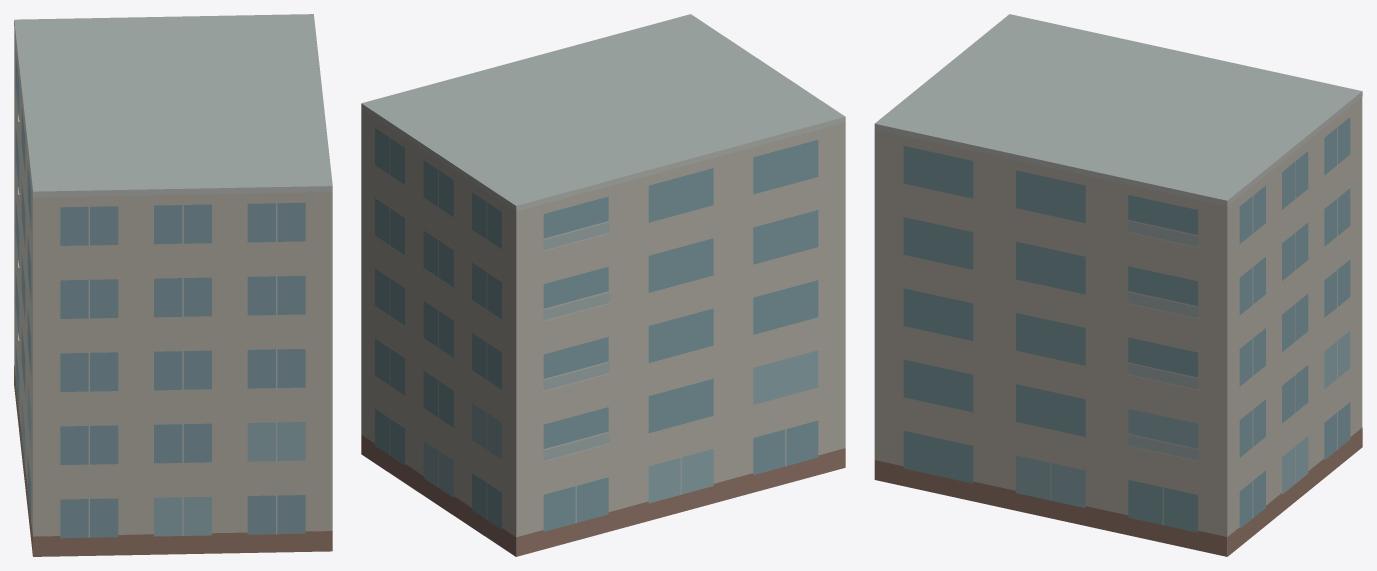
File: survey-upis-32554875.glb
3 renders of one model, left to right at view 1: azimuth 30°, elevation 25°; view 2: azimuth 150°, elevation 25°; view 3: azimuth 270°, elevation 25°, orthographic. The views are drawn at different scales.
Parts seen in each view (by area): view 1: survey-upis-32554875.tmp; view 2: survey-upis-32554875.tmp; view 3: survey-upis-32554875.tmp.
Part boxes in pixels (x1,y1,x2,y2): survey-upis-32554875.tmp: (14, 14, 332, 556); survey-upis-32554875.tmp: (361, 14, 845, 556); survey-upis-32554875.tmp: (874, 14, 1362, 556).
Bounding box in the file's own units: 17.16 × 15.25 × 18.94.
